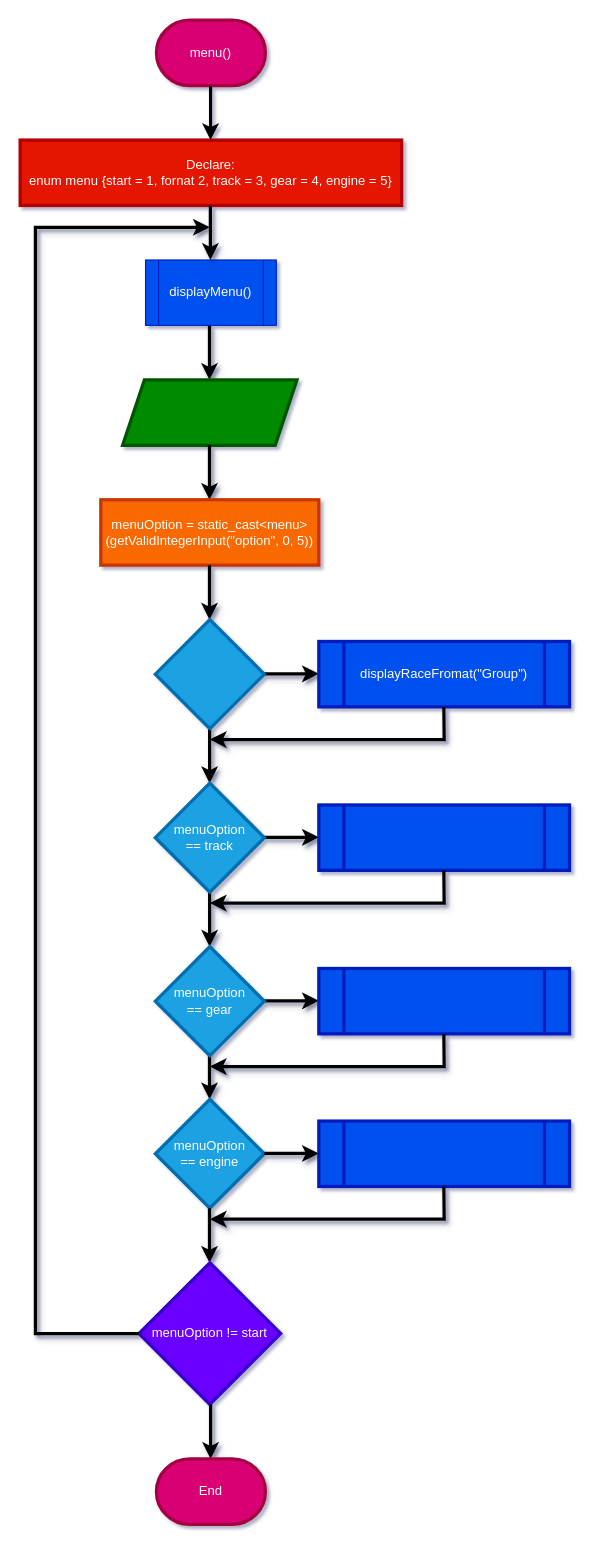
Some shapes in this 596 by 1551 pixel diagram are drawn without their labels. Here are the shapes that lost their labels. From the top down, the centre of each, then its label:
(209,412): Prompt: "Choose your option: "
(209,673): menuOption == format
(444,837): displayTrackList()
(444,1000): displayRacingGear()
(444,1153): displayEngineCapacities(18, 'Y')
